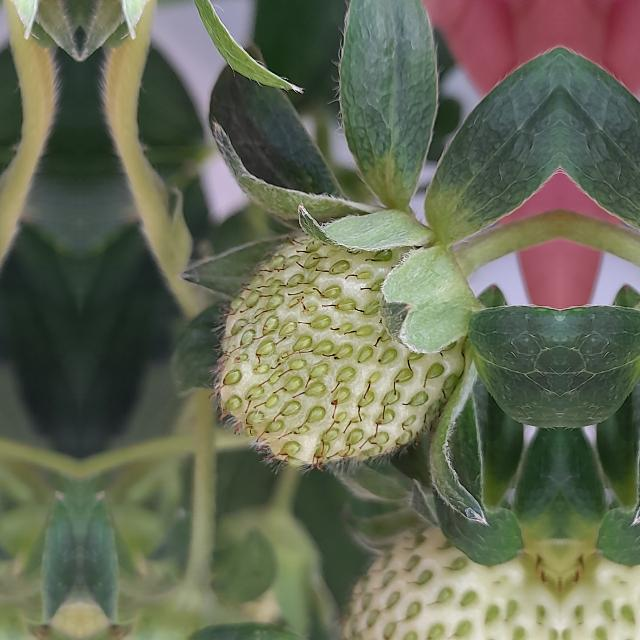Health_25: (208, 216, 470, 477)
